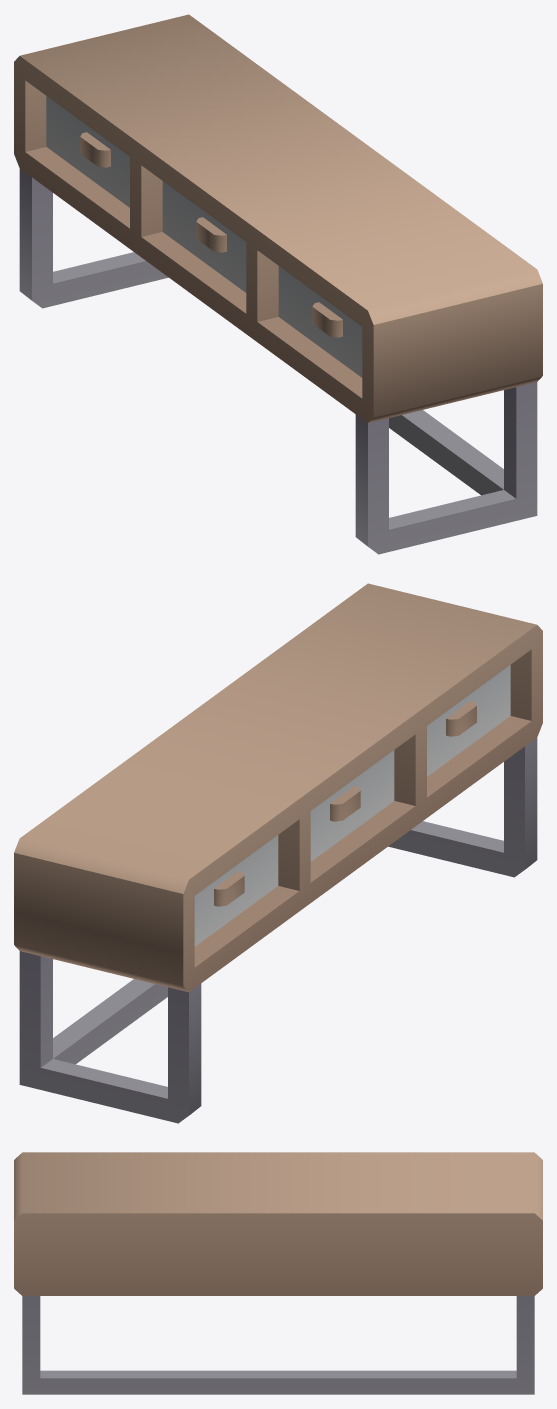
The model's file is sidetable-drawers-frame-square-wide.glb.
3 views of the same model, one above another, from view 1: azimuth 30°, elevation 25°; view 2: azimuth 150°, elevation 25°; view 3: azimuth 270°, elevation 25° (orthographic). The views are drawn at different scales.
Parts seen in each view (by area): view 1: sidetable-drawers-frame-square-wide; view 2: sidetable-drawers-frame-square-wide; view 3: sidetable-drawers-frame-square-wide.
Part boxes in pixels (bbox=[...]): sidetable-drawers-frame-square-wide: bbox=[14, 14, 542, 554]; sidetable-drawers-frame-square-wide: bbox=[14, 583, 542, 1123]; sidetable-drawers-frame-square-wide: bbox=[14, 1152, 542, 1394].
Bounding box in the file's own units: 0.4 × 0.556 × 1.47.
